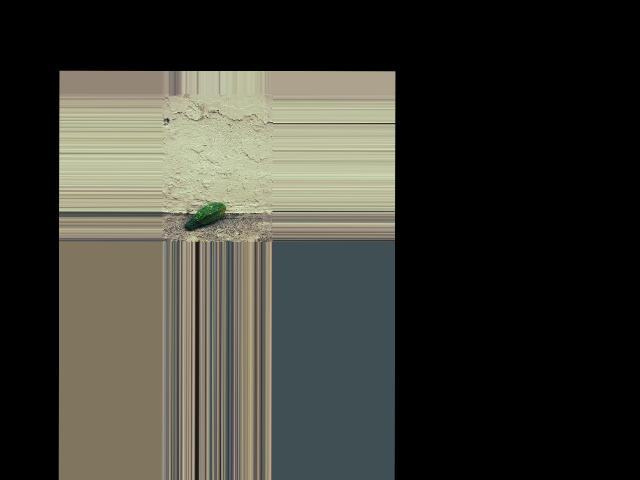cucumber: (185, 201, 226, 230)
